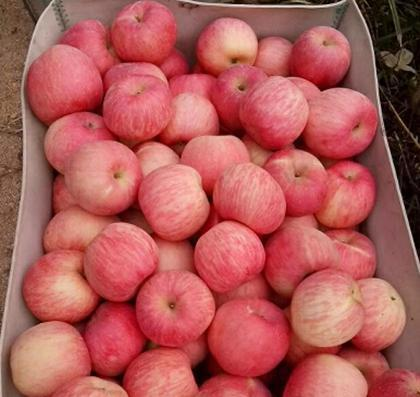apple: (207, 295, 289, 373), (10, 318, 91, 395), (25, 45, 101, 121), (210, 161, 289, 234), (289, 269, 365, 344), (140, 267, 212, 346), (84, 222, 156, 301), (139, 162, 208, 239), (21, 248, 99, 316), (70, 140, 141, 210), (102, 72, 172, 142), (306, 86, 376, 156), (241, 76, 311, 146), (195, 221, 266, 290), (43, 110, 113, 172), (215, 64, 276, 134), (316, 160, 377, 230), (267, 147, 328, 217), (109, 1, 177, 63), (289, 25, 352, 90), (194, 16, 259, 76), (160, 92, 219, 146)
